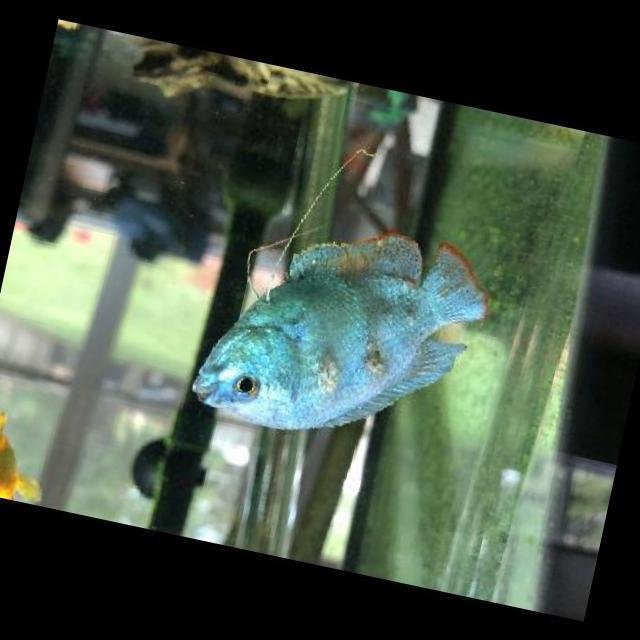Gourami: (184, 190, 505, 470)
